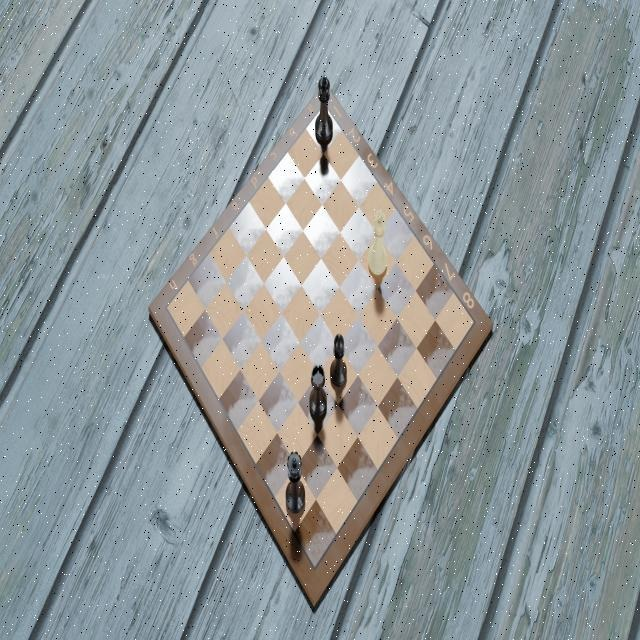black-bishop: (328, 333, 347, 391)
black-king: (313, 72, 335, 147)
black-rook: (308, 362, 328, 422)
white-king: (366, 208, 390, 279)
white-queen: (283, 449, 307, 517)
